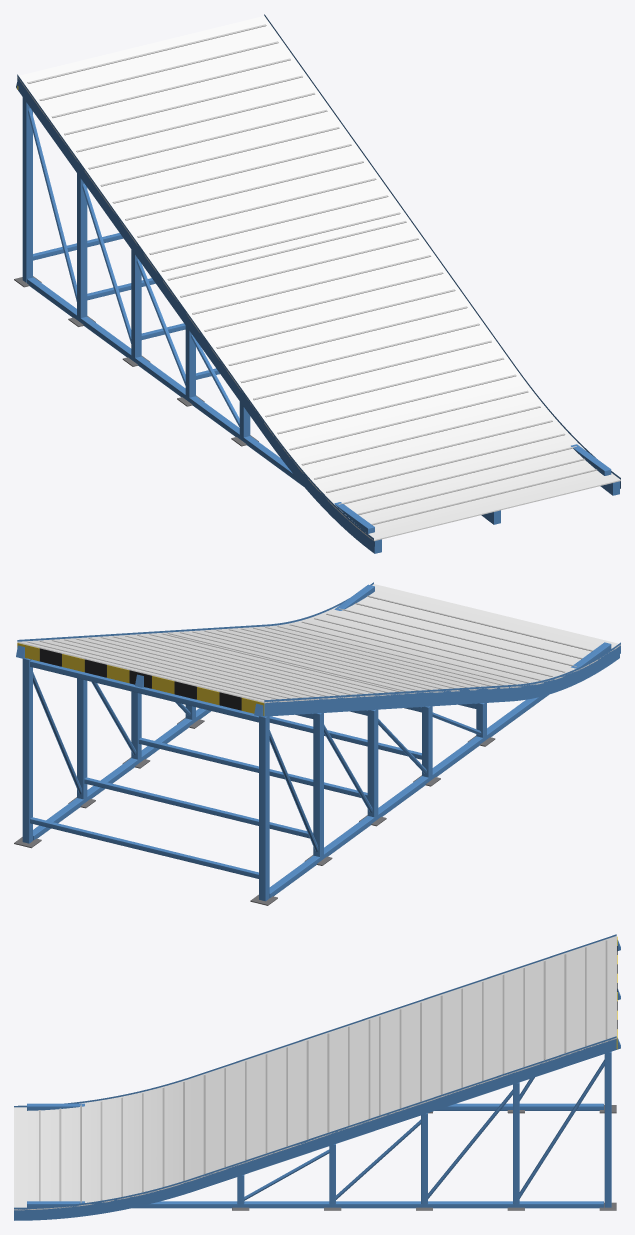
File: ramp_xl.glb
The picture shows the model from 3 angles, top to bottom: view 1: azimuth 30°, elevation 25°; view 2: azimuth 150°, elevation 25°; view 3: azimuth 270°, elevation 25°; orthographic projection. The views are drawn at different scales.
Parts seen in each view (by area): view 1: SM_ramp_xl; view 2: SM_ramp_xl; view 3: SM_ramp_xl.
Part boxes in pixels (box(x1,y1,x2,y2)): SM_ramp_xl: box(14, 14, 620, 553); SM_ramp_xl: box(14, 582, 620, 905); SM_ramp_xl: box(14, 934, 620, 1220).
Size of the model in its own units: 2.88 by 2.37 by 7.05.
